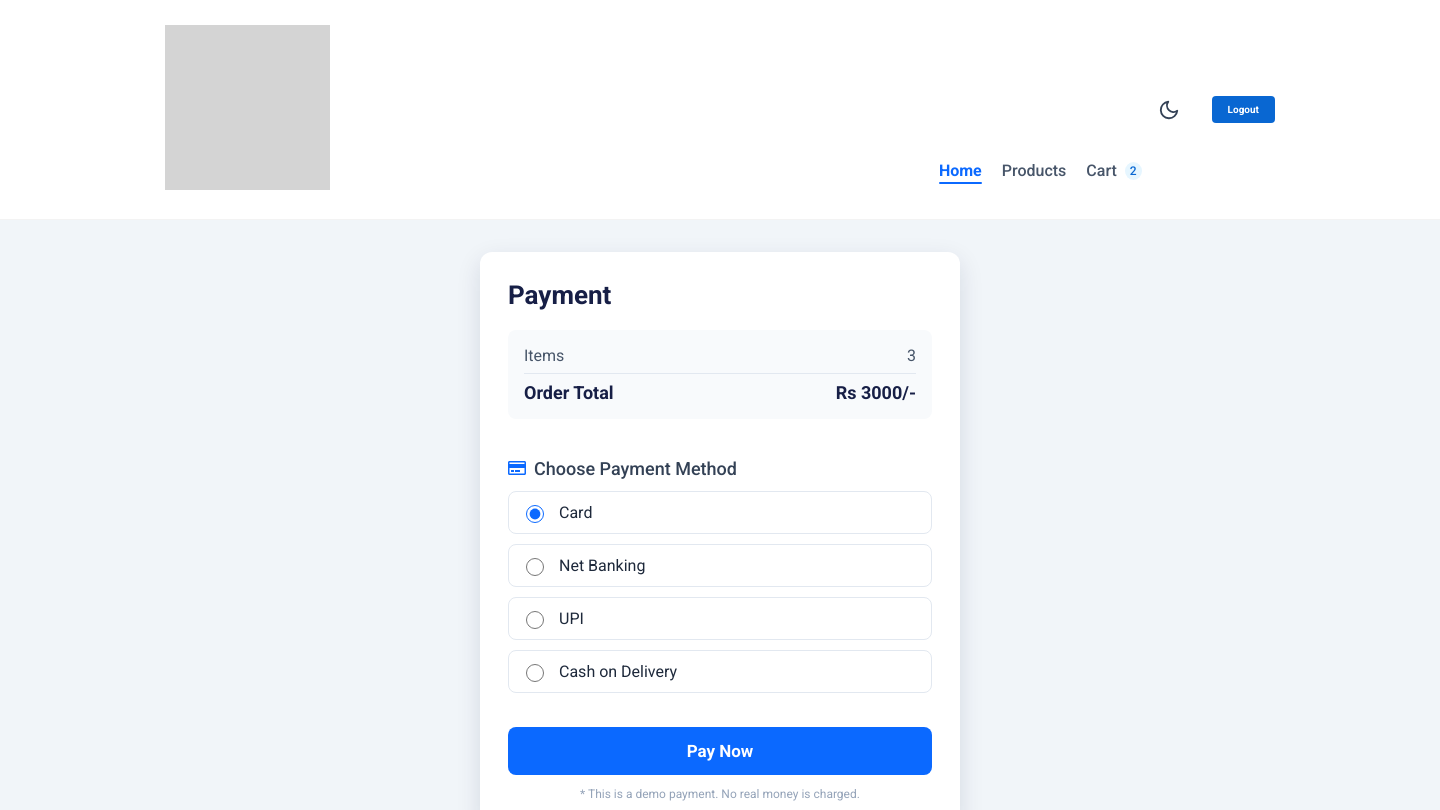
Test: Payment page › places the order and clears the cart on Pay Now
Click the button "Pay Now" at point(720, 751), box [508,727,932,775]
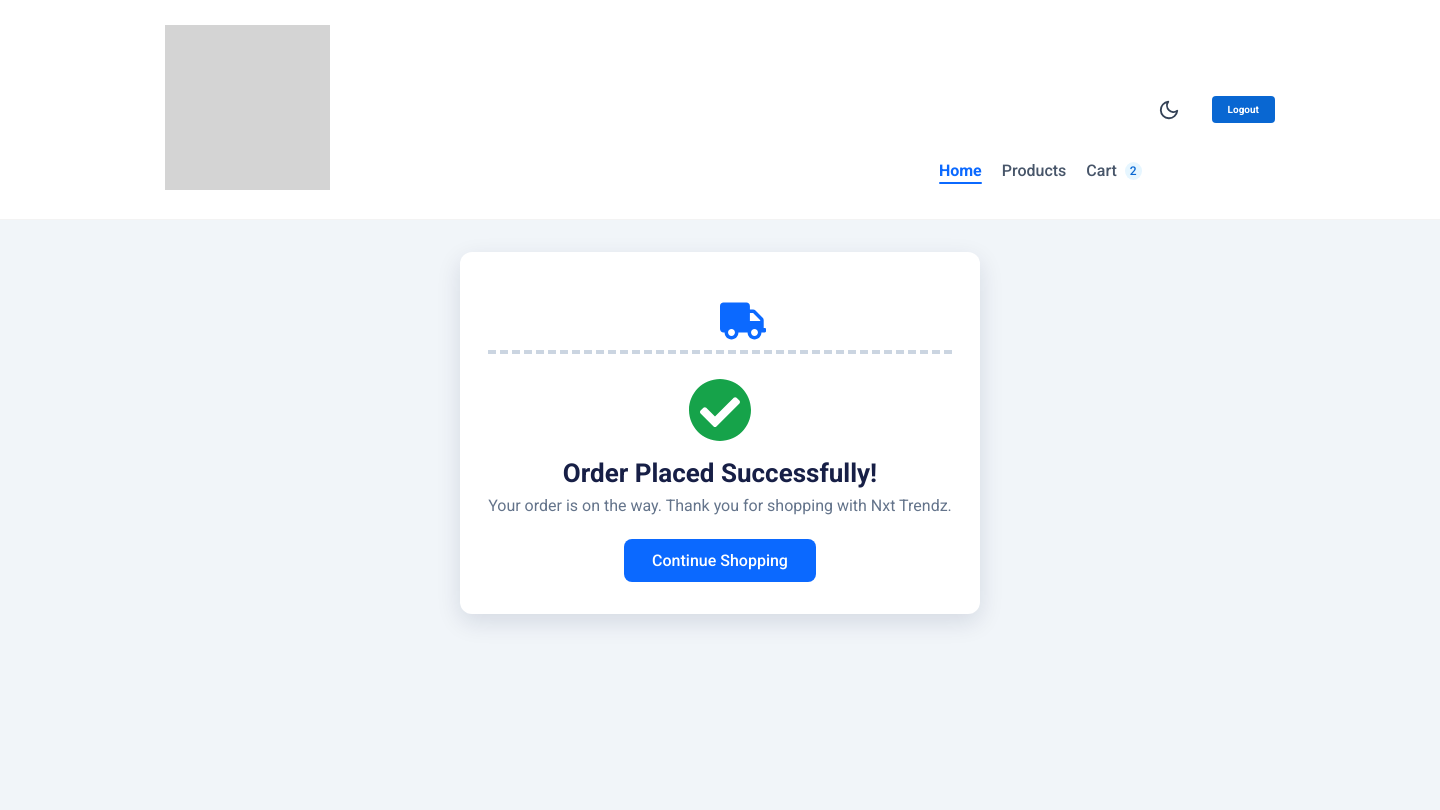
Expected: the heading "Order Placed Successfully!" is shown, [563,458,877,488]
Expected: the button "Continue Shopping" is shown, [624,539,816,582]
